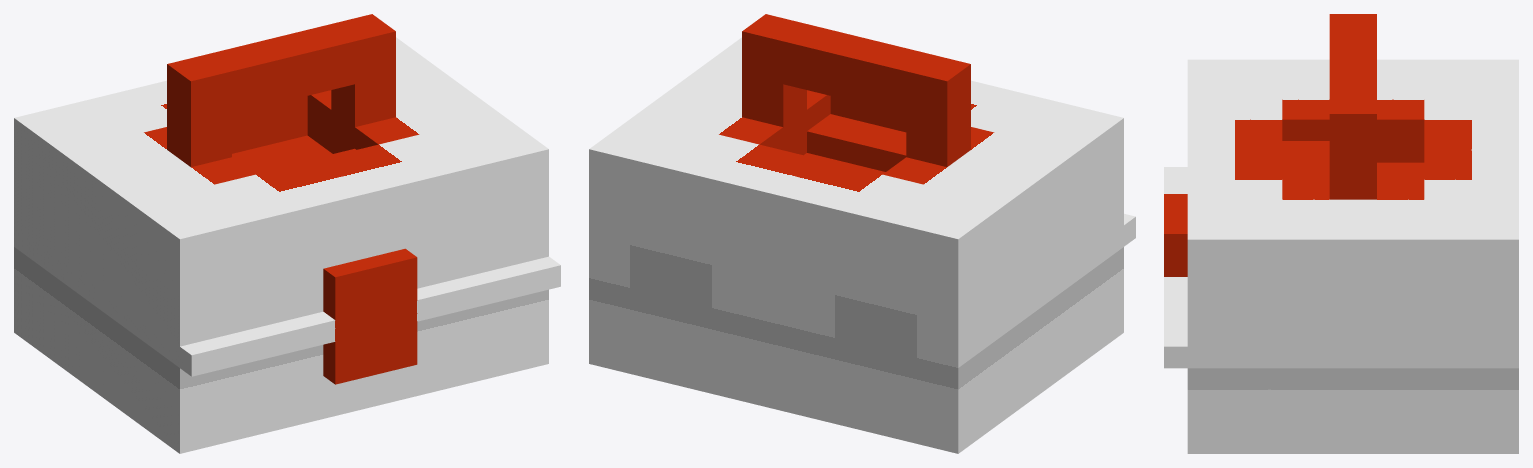
File: prop_medicalkit_01.fbx
3 views of the same model, side by side, from view 1: azimuth 30°, elevation 25°; view 2: azimuth 150°, elevation 25°; view 3: azimuth 270°, elevation 25° (orthographic).
Visible parts, largest first — view 1: prop_medicalkit_01; view 2: prop_medicalkit_01; view 3: prop_medicalkit_01.
Part boxes in pixels (box(x1,y1,x2,y2)): prop_medicalkit_01: box(14, 14, 560, 453); prop_medicalkit_01: box(589, 14, 1135, 453); prop_medicalkit_01: box(1164, 14, 1518, 453).
Bounding box in the file's own units: 18 × 14 × 15.
